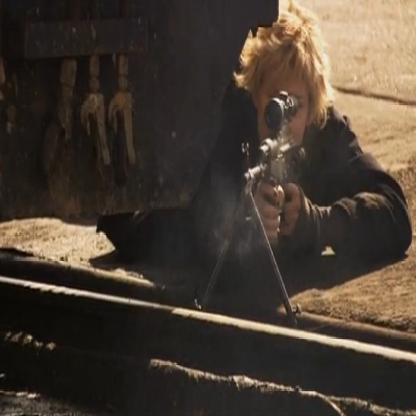gun: (233, 82, 310, 205)
